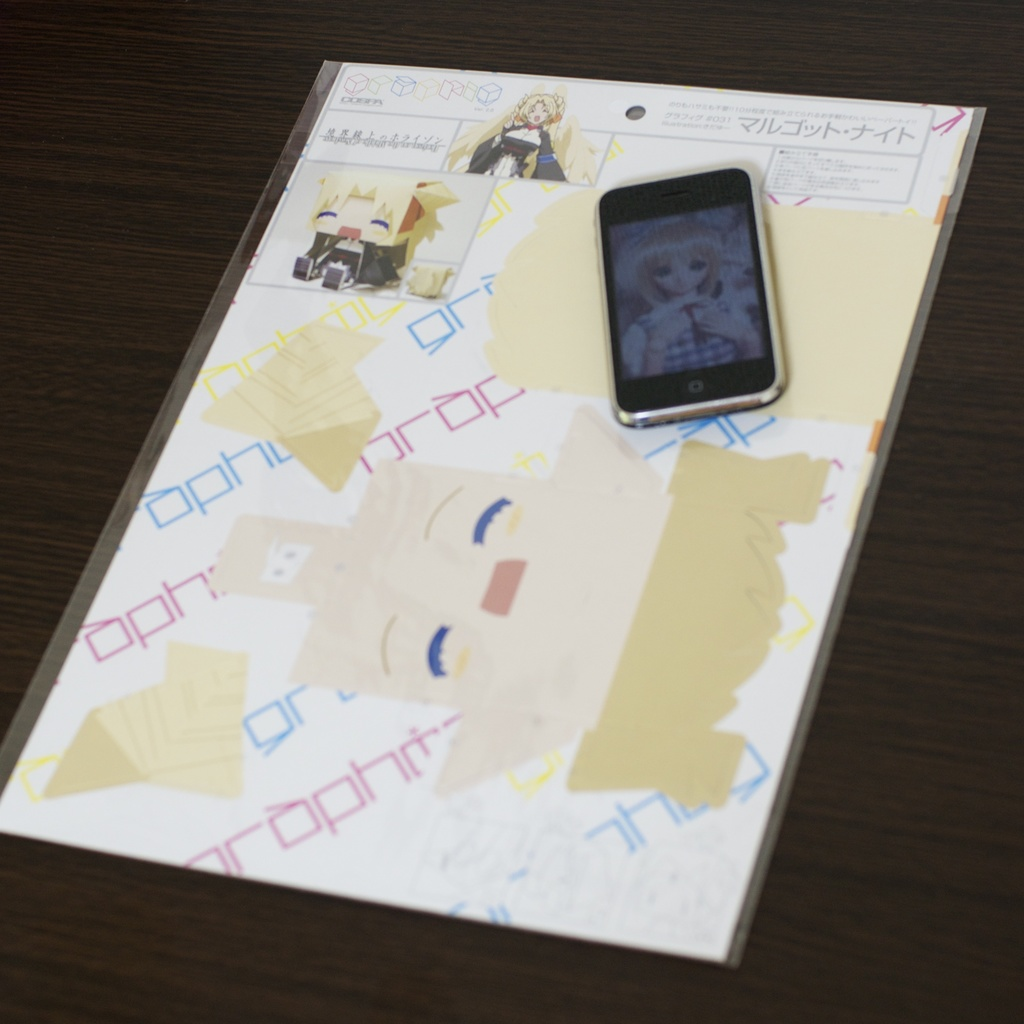Mobile-phone: (595, 170, 792, 423)
